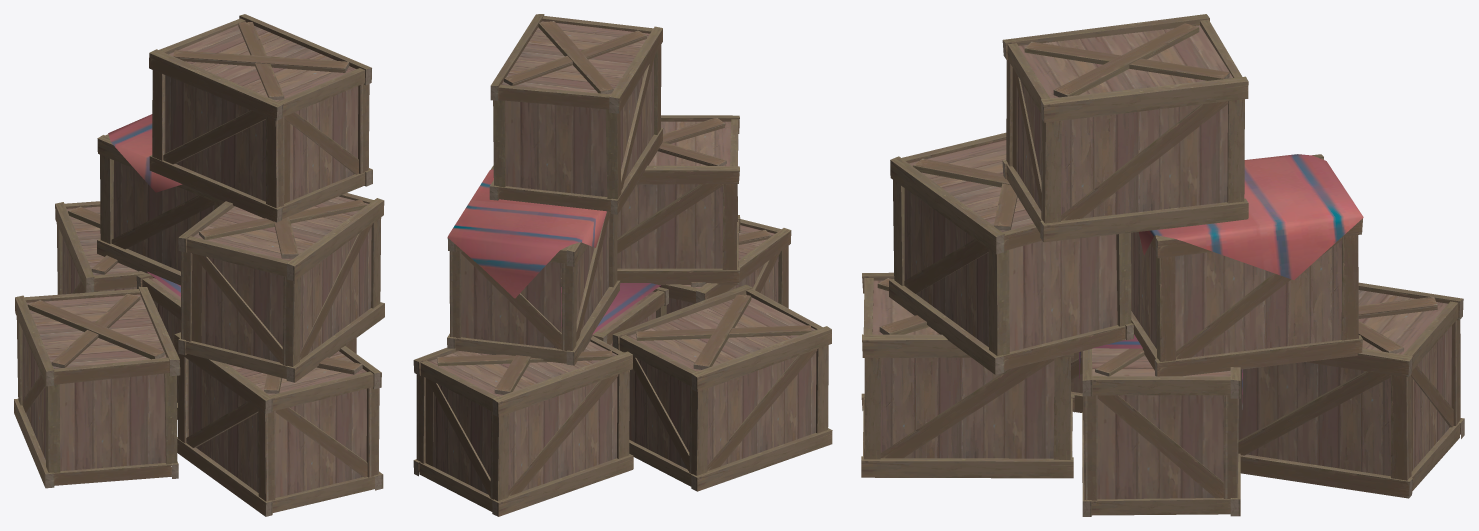
File: Homeworld_Exterior_Md_Decoration_Junk_01_Lod0.fbx
3 views of the same model, side by side, from view 1: azimuth 30°, elevation 25°; view 2: azimuth 150°, elevation 25°; view 3: azimuth 270°, elevation 25° (orthographic). The views are drawn at different scales.
Visible parts, largest first — view 1: Area_Md_Prop_City_Cluster_13_Lod0; view 2: Area_Md_Prop_City_Cluster_13_Lod0; view 3: Area_Md_Prop_City_Cluster_13_Lod0.
Boxes of the visible parts, left/top/right/bottom form: Area_Md_Prop_City_Cluster_13_Lod0: left=14, top=14, right=384, bottom=516; Area_Md_Prop_City_Cluster_13_Lod0: left=413, top=14, right=832, bottom=516; Area_Md_Prop_City_Cluster_13_Lod0: left=861, top=14, right=1464, bottom=516.
Bounding box in the file's own units: 3.46 × 3.69 × 4.81.
